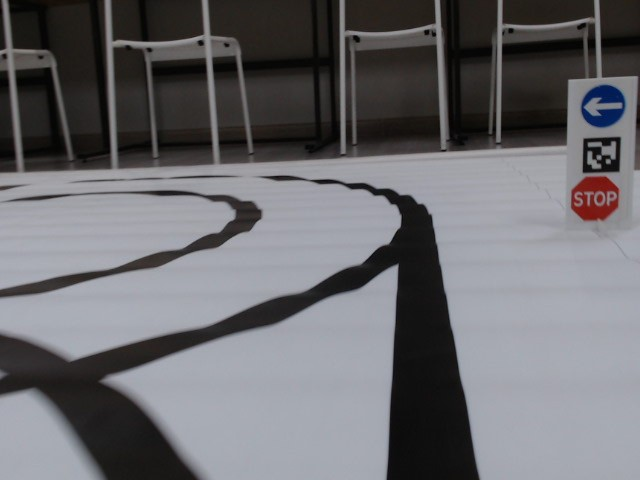Stop: (572, 177, 620, 218)
